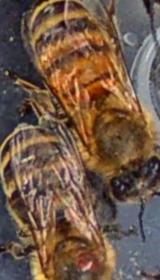varroa_mite: (64, 245, 104, 276)
